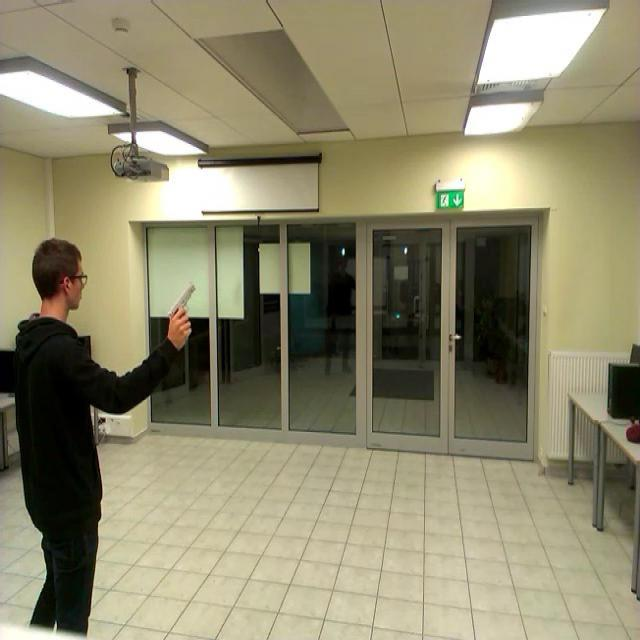weapon: (165, 283, 197, 334)
